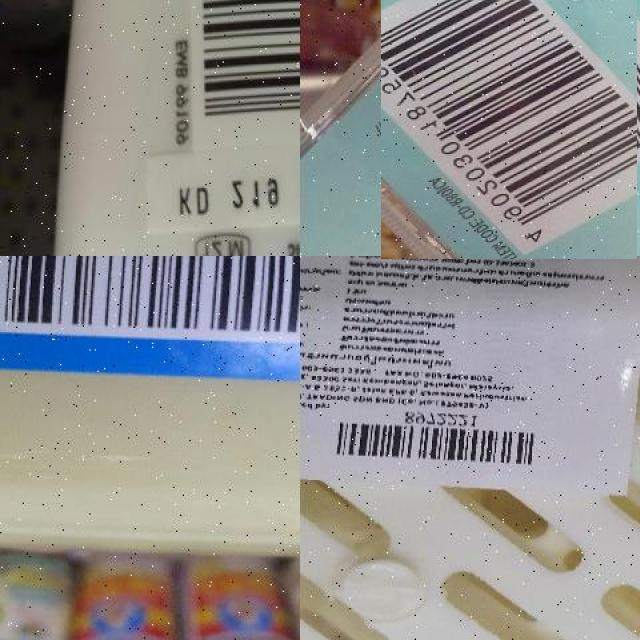Barcode: (379, 0, 638, 257), (0, 256, 300, 344), (190, 0, 300, 145), (316, 410, 553, 473)
